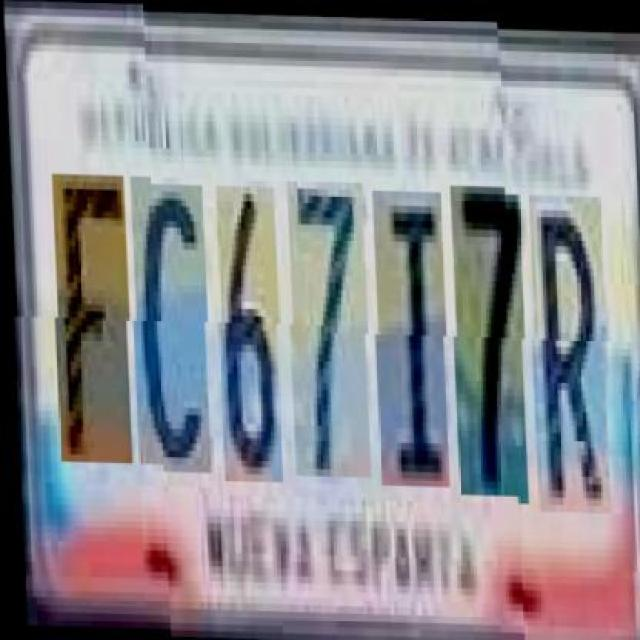6: (214, 185, 281, 480)
7: (285, 179, 370, 476), (448, 182, 528, 493)
c: (128, 183, 212, 472)
f: (50, 181, 133, 470)
i: (371, 188, 449, 484)
r: (526, 185, 609, 503)
